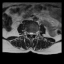CCS_normal: (30, 30, 32, 39)
LFS_normal: (34, 30, 36, 36)
LLS_normal: (32, 30, 34, 36)
RFS_normal: (26, 29, 28, 36)
RLS_normal: (28, 30, 30, 36)
